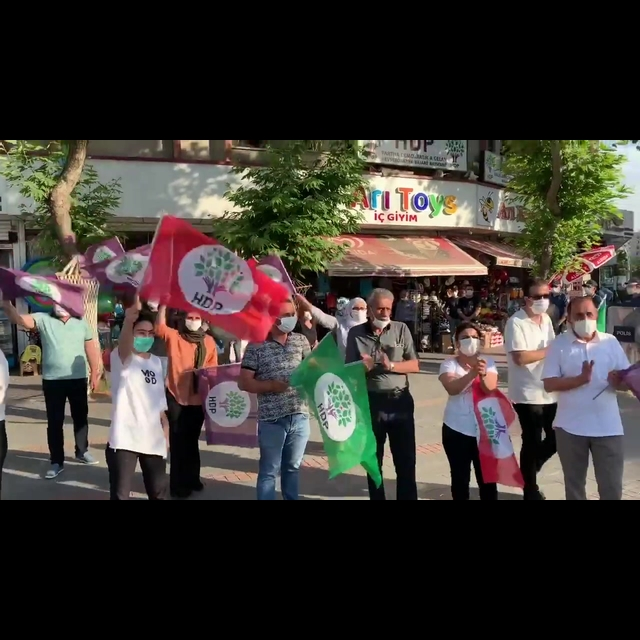HDP: (184, 242, 246, 299), (324, 375, 359, 436), (221, 384, 247, 428)
